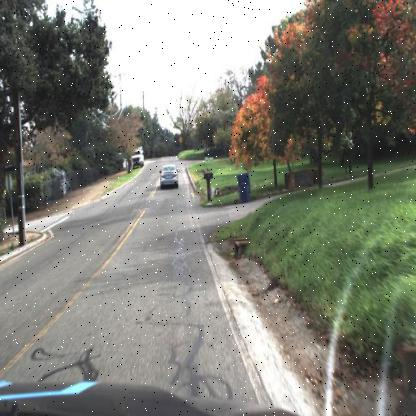car: (157, 159, 181, 192), (128, 142, 147, 172)
truck: (129, 148, 147, 170)
